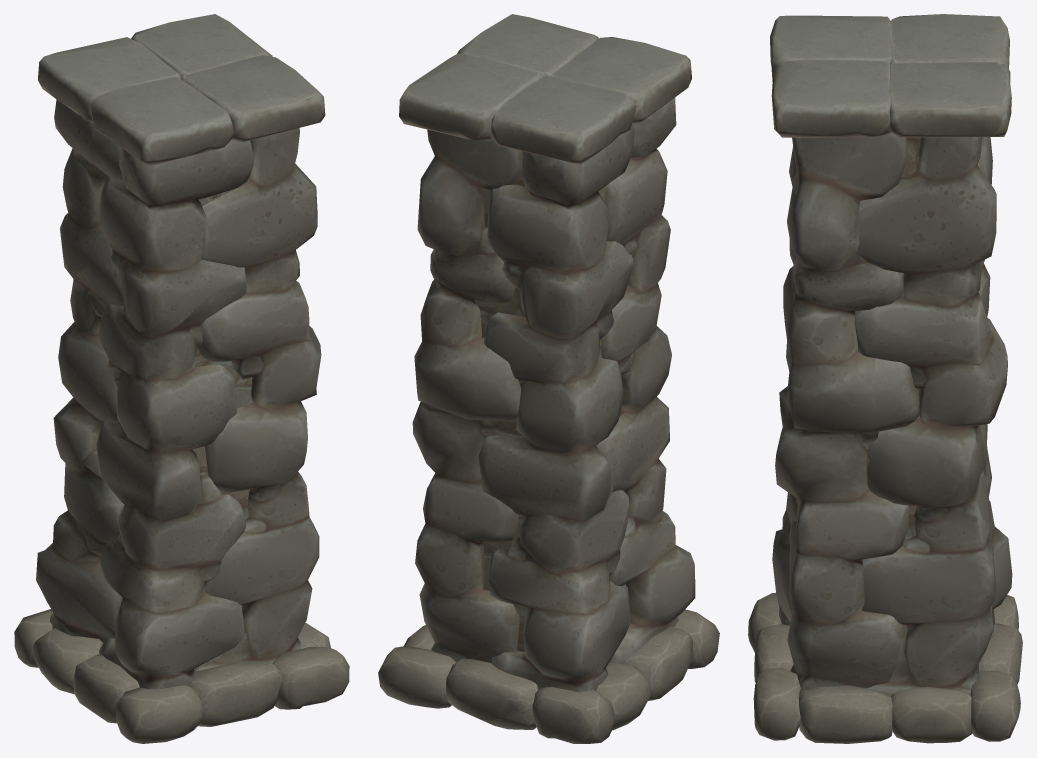
Rendered from SM_FW01_Ruins_Int_Pillar_C_2x4_01.fbx.
The picture shows the model from 3 angles, left to right: view 1: azimuth 30°, elevation 25°; view 2: azimuth 150°, elevation 25°; view 3: azimuth 270°, elevation 25°; orthographic projection. The views are drawn at different scales.
Parts seen in each view (by area): view 1: SM_FW01_Ruins_Int_Pillar_C_2x4_01_LOD0, SM_FW01_Ruins_Int_Pillar_C_2x4_01; view 2: SM_FW01_Ruins_Int_Pillar_C_2x4_01_LOD0, SM_FW01_Ruins_Int_Pillar_C_2x4_01; view 3: SM_FW01_Ruins_Int_Pillar_C_2x4_01_LOD0, SM_FW01_Ruins_Int_Pillar_C_2x4_01.
Boxes of the visible parts, x1,y1,x2,y2 form: SM_FW01_Ruins_Int_Pillar_C_2x4_01_LOD0: (14,14,349,743); SM_FW01_Ruins_Int_Pillar_C_2x4_01: (98,171,252,671); SM_FW01_Ruins_Int_Pillar_C_2x4_01_LOD0: (378,14,719,743); SM_FW01_Ruins_Int_Pillar_C_2x4_01: (436,164,625,651); SM_FW01_Ruins_Int_Pillar_C_2x4_01_LOD0: (748,14,1022,743); SM_FW01_Ruins_Int_Pillar_C_2x4_01: (868,137,971,675).
Size of what is drawn, in the model's own units: 1.69 by 4.25 by 1.67.
